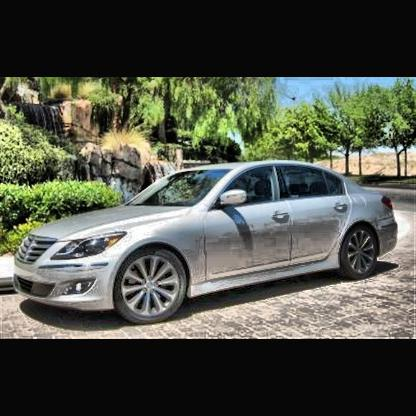Hyundai Genesis Sedan 2012: (14, 162, 400, 321)
